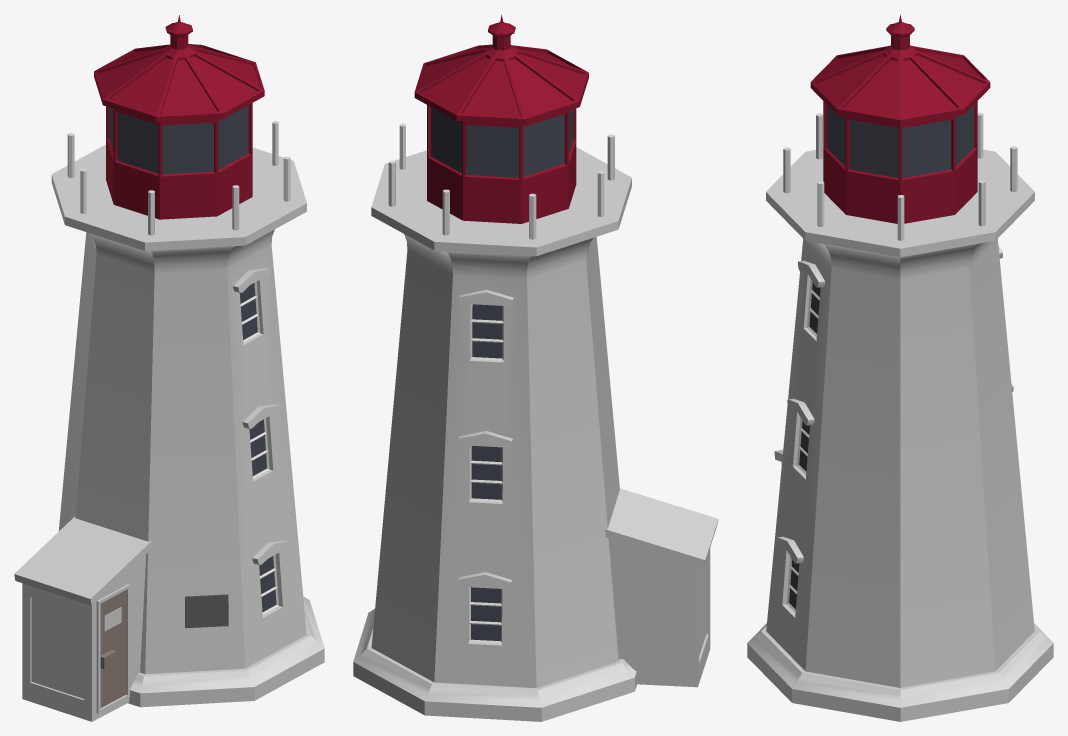
The model's file is Peggy’sCoveLighthouse.fbx.
3 views of the same model, side by side, from view 1: azimuth 30°, elevation 25°; view 2: azimuth 150°, elevation 25°; view 3: azimuth 270°, elevation 25° (orthographic). The views are drawn at different scales.
Visible parts, largest first — view 1: Base, Top, Cube, Cylinder; view 2: Base, Top, Cube, Cylinder; view 3: Base, Top, Cylinder.
Boxes of the visible parts, bbox=[...] form: Base: bbox=[51, 144, 324, 707]; Top: bbox=[94, 15, 264, 219]; Cube: bbox=[14, 516, 151, 721]; Cylinder: bbox=[67, 121, 290, 235]; Base: bbox=[353, 147, 636, 721]; Top: bbox=[414, 15, 588, 223]; Cube: bbox=[605, 488, 718, 687]; Cylinder: bbox=[388, 123, 614, 239]; Base: bbox=[747, 149, 1053, 721]; Top: bbox=[810, 14, 990, 223]; Cylinder: bbox=[783, 112, 1017, 240].
Bounding box in the file's own units: 5.89 × 11.37 × 4.91.
